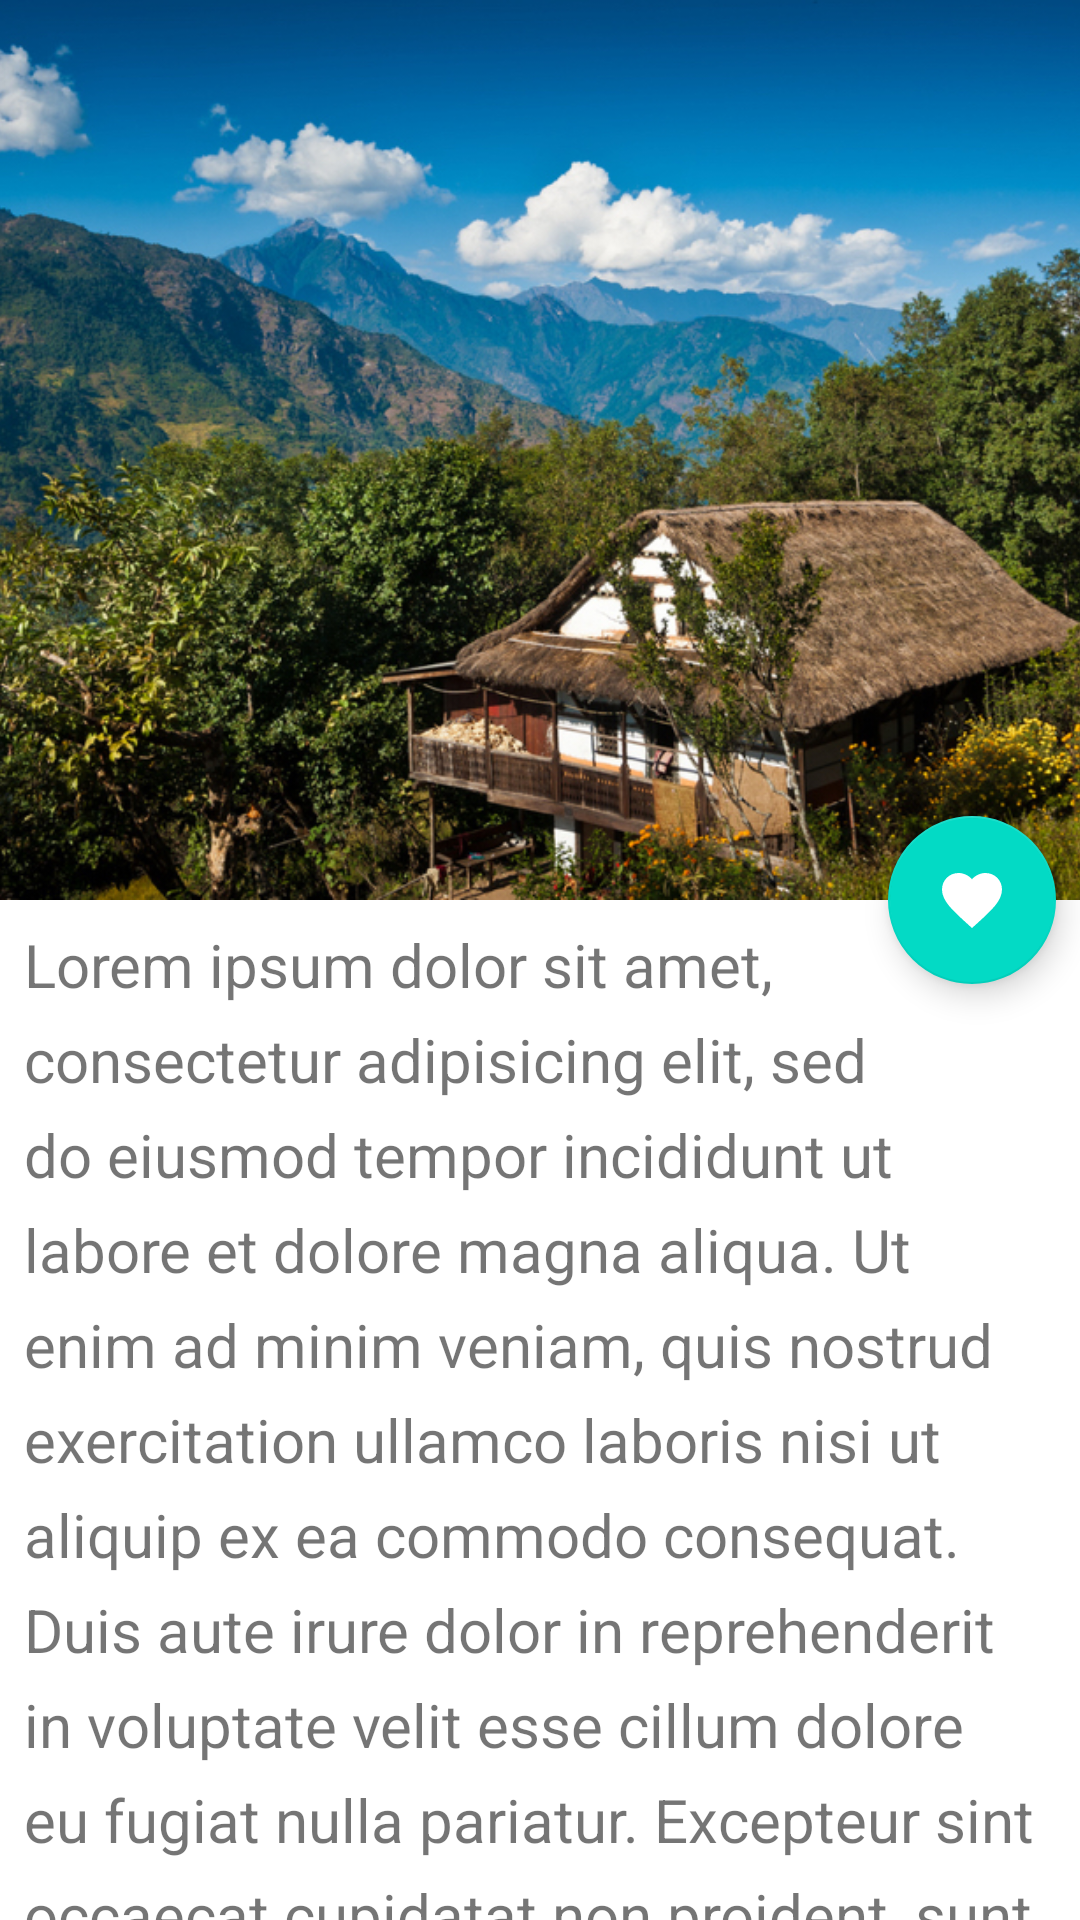

Icons on this 1080px×1920px Android screen, each with the point to tap as (x,y):
favorite: (972,900)
